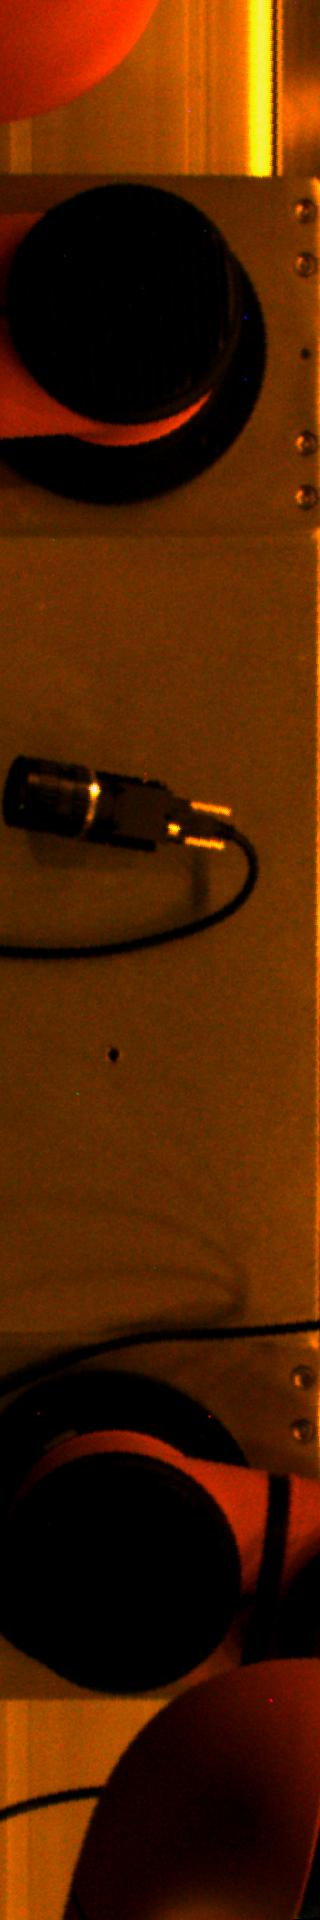keyPoint_2: (98, 1040, 128, 1069)
